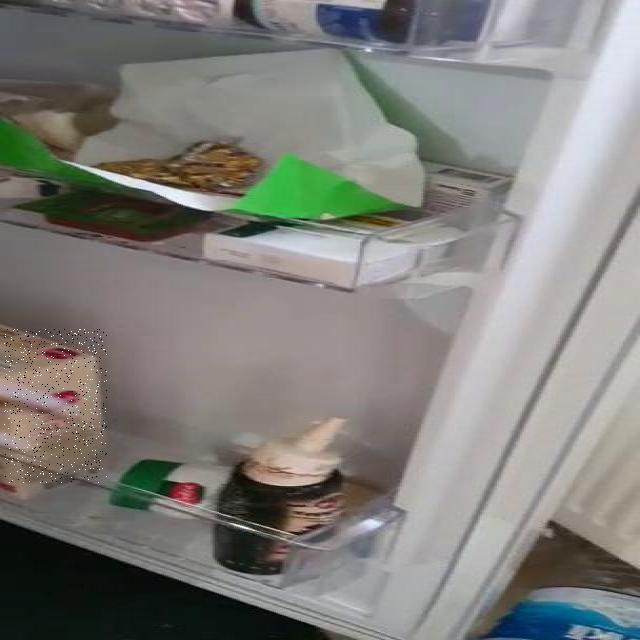milk: (4, 329, 107, 483)
